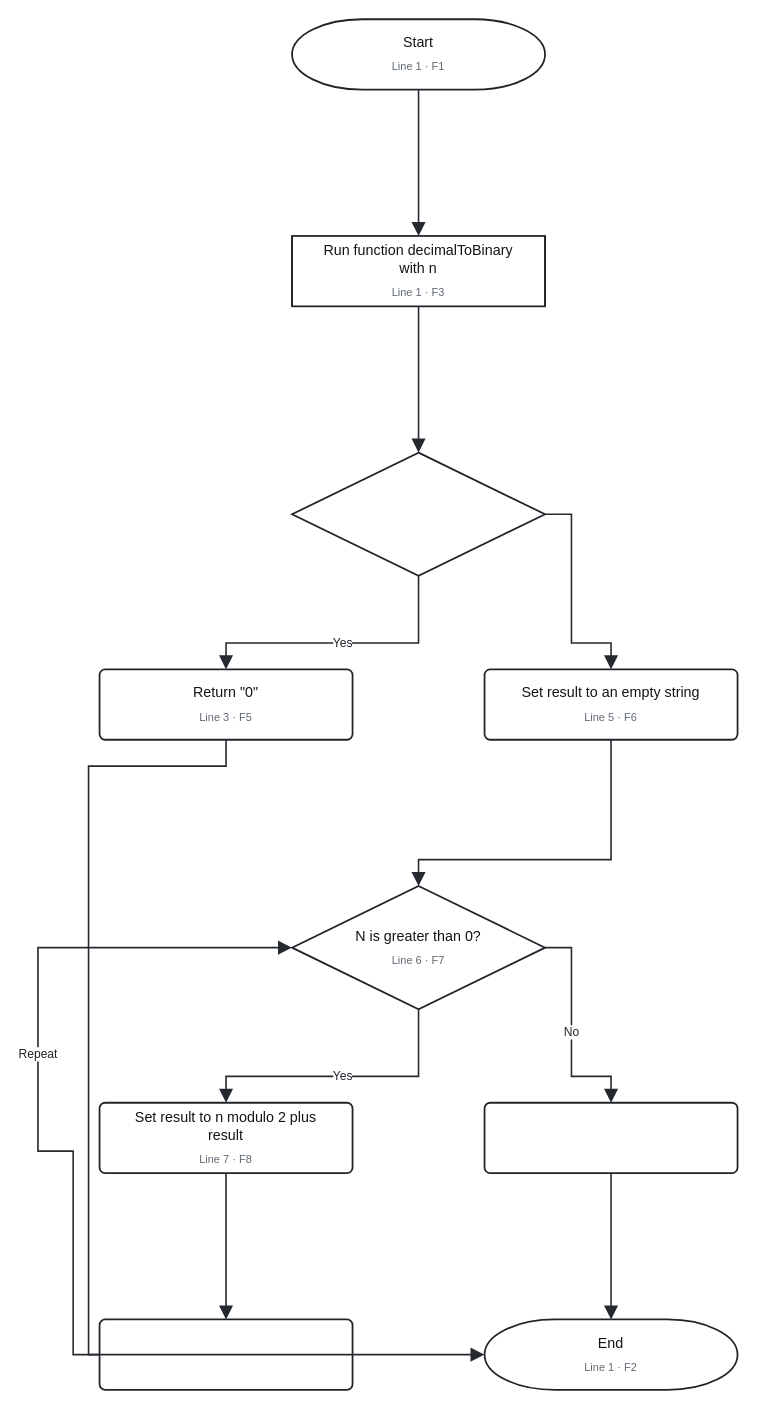
The diagram is 758 pixels wide and 1410 high, and some of its shapes have lost their labels. Each missing label, with the box of its shape:
N is equal to 0? Line 2 · F4: (291, 451, 545, 576)
Return result Line 10 · F10: (483, 1101, 738, 1173)
Set n to n integer-divided by 2 Line 8 · F9: (98, 1318, 353, 1390)
